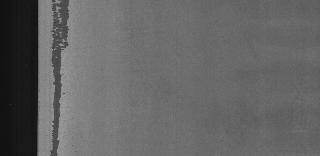oil spot: (47, 0, 73, 156)
